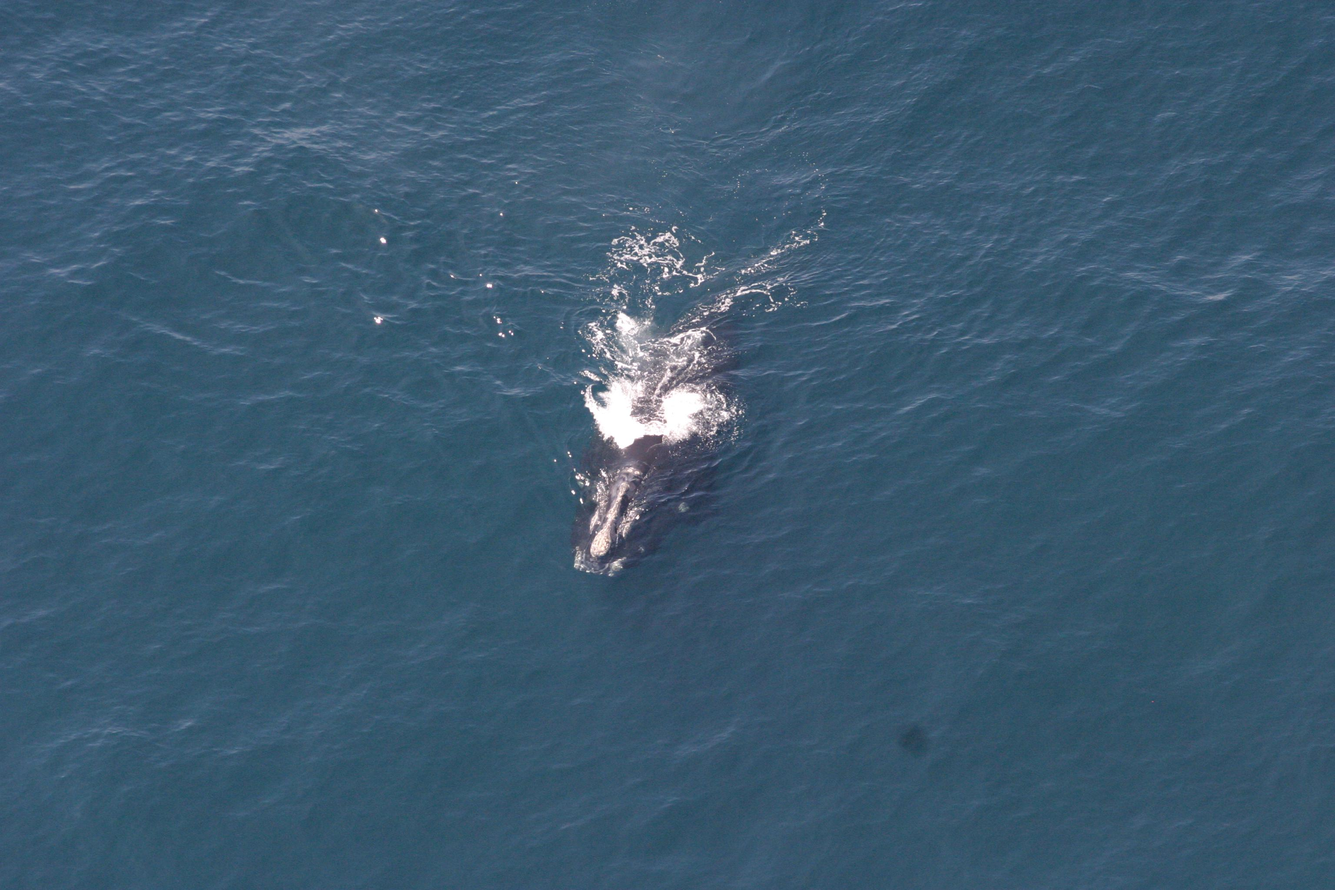whale: (565, 235, 780, 592)
